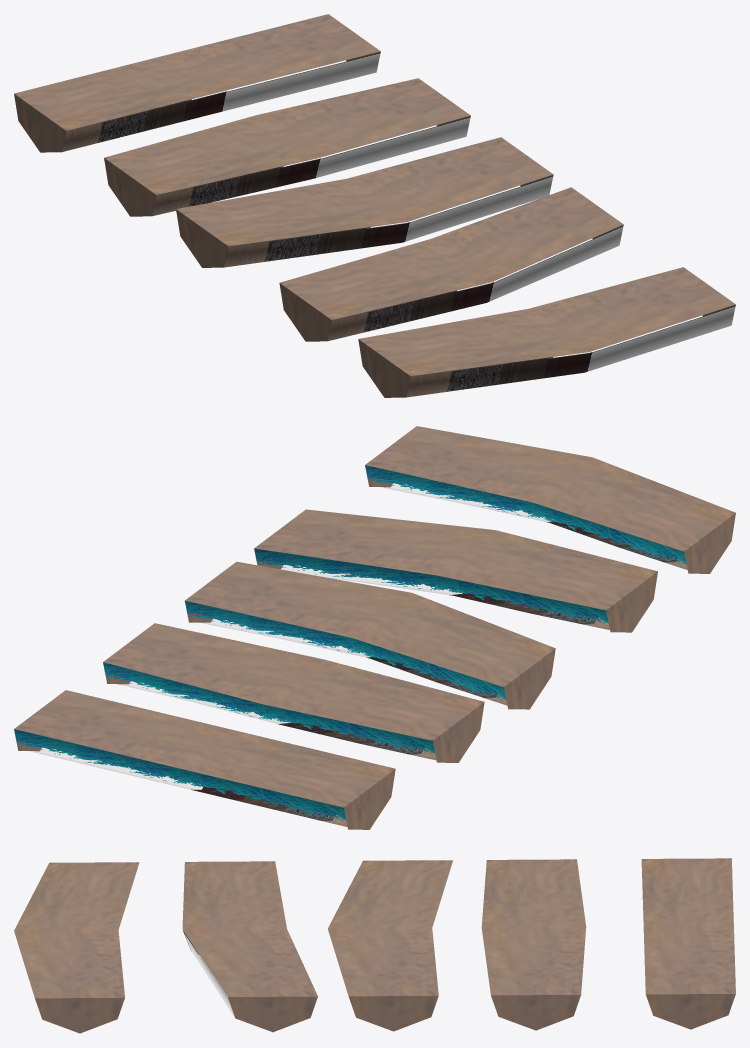
Rendered from LoveDeath_Steps_Art.glb.
3 views of the same model, one above another, from view 1: azimuth 30°, elevation 25°; view 2: azimuth 150°, elevation 25°; view 3: azimuth 270°, elevation 25° (orthographic). The views are drawn at different scales.
Visible parts, largest first — view 1: LoveDeath_Steps_Art; view 2: LoveDeath_Steps_Art; view 3: LoveDeath_Steps_Art.
Boxes of the visible parts, x1=… form: LoveDeath_Steps_Art: x1=14, y1=14, x2=735, y2=397; LoveDeath_Steps_Art: x1=14, y1=426, x2=735, y2=829; LoveDeath_Steps_Art: x1=14, y1=858, x2=735, y2=1033.
Size of the model in its own units: 1.45 by 0.1766 by 3.16.
1 material, 1 textured.
